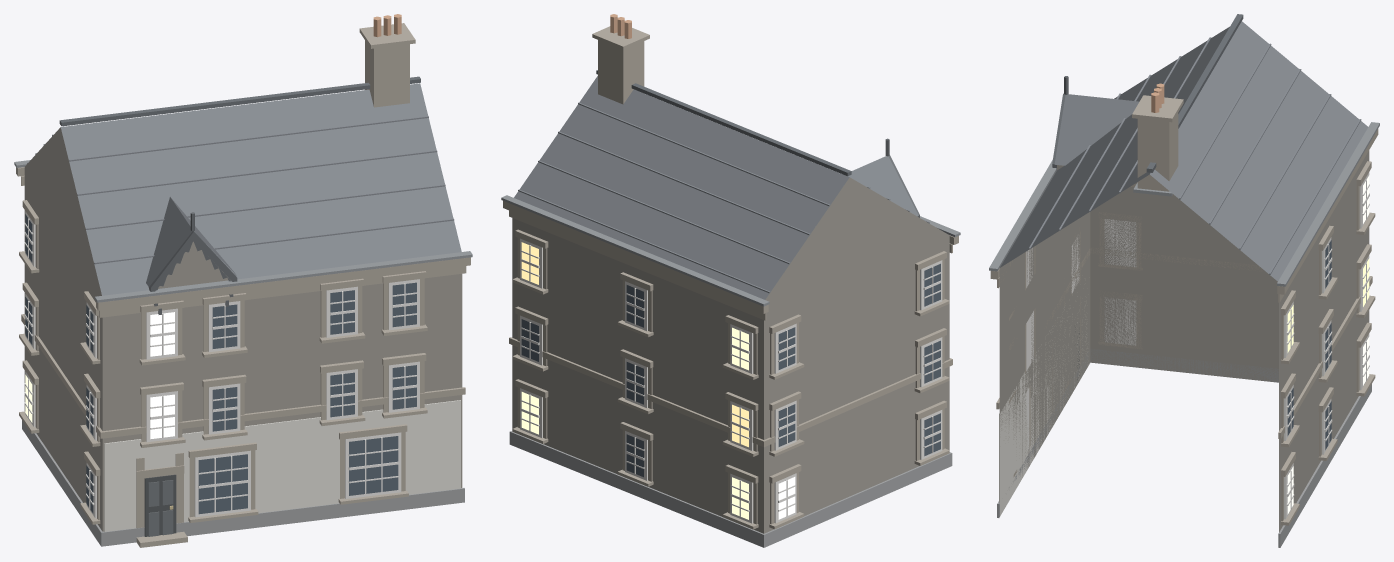
3 views of the same model, side by side, from view 1: azimuth 30°, elevation 25°; view 2: azimuth 150°, elevation 25°; view 3: azimuth 270°, elevation 25° (orthographic). The views are drawn at different scales.
Parts seen in each view (by area): view 1: slate, rubble, chim_stone, string, windows, frame, plinth, slate_lt, lead, slate_dk, band_dark, door_dark_p (+1 smaller); view 2: rubble, slate, chim_stone, frame, windows, plinth, slate_lt, lead, slate_dk; view 3: rubble, slate, chim_stone, frame, plinth, string, lead, slate_lt, windows, slate_dk.
Boxes of the visible parts, bbox=[...] form: slate: bbox=[60, 83, 461, 295]; rubble: bbox=[24, 127, 462, 531]; chim_stone: bbox=[16, 23, 470, 547]; string: bbox=[104, 400, 460, 531]; windows: bbox=[25, 214, 416, 514]; frame: bbox=[24, 211, 419, 518]; plinth: bbox=[22, 420, 464, 546]; slate_lt: bbox=[27, 116, 454, 264]; lead: bbox=[14, 160, 472, 302]; slate_dk: bbox=[59, 76, 420, 126]; band_dark: bbox=[149, 212, 237, 314]; door_dark_p: bbox=[148, 480, 173, 536]; rubble: bbox=[512, 177, 949, 533]; slate: bbox=[514, 76, 918, 299]; chim_stone: bbox=[503, 26, 958, 529]; frame: bbox=[520, 238, 942, 523]; windows: bbox=[521, 242, 940, 519]; plinth: bbox=[509, 431, 952, 547]; slate_lt: bbox=[518, 102, 929, 293]; lead: bbox=[501, 195, 960, 306]; slate_dk: bbox=[596, 70, 851, 176]; rubble: bbox=[999, 150, 1369, 532]; slate: bbox=[1000, 21, 1367, 281]; chim_stone: bbox=[990, 95, 1378, 525]; frame: bbox=[1025, 172, 1369, 519]; plinth: bbox=[997, 348, 1371, 547]; string: bbox=[999, 296, 1089, 516]; lead: bbox=[989, 122, 1379, 286]; slate_lt: bbox=[1029, 37, 1361, 274]; windows: bbox=[1287, 175, 1369, 514]; slate_dk: bbox=[1146, 14, 1243, 172].
Size of the model in its own units: 13.28 by 13.79 by 11.38.
